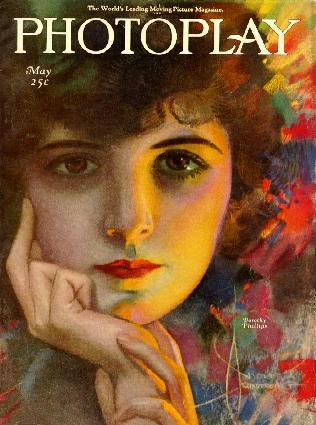person: (10, 23, 275, 413)
